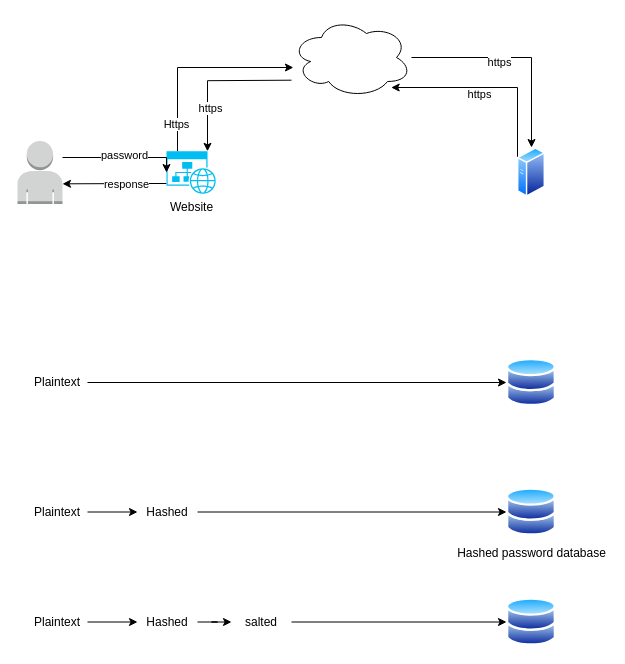
Some shapes in this 625 by 664 pixel diagram are drawn without their labels. Here are the shapes that lost their labels. From the top down, the centre of each, then its label:
At pixel 531 172: "Password checker".
At pixel 531 382: "Plaintext password database".
